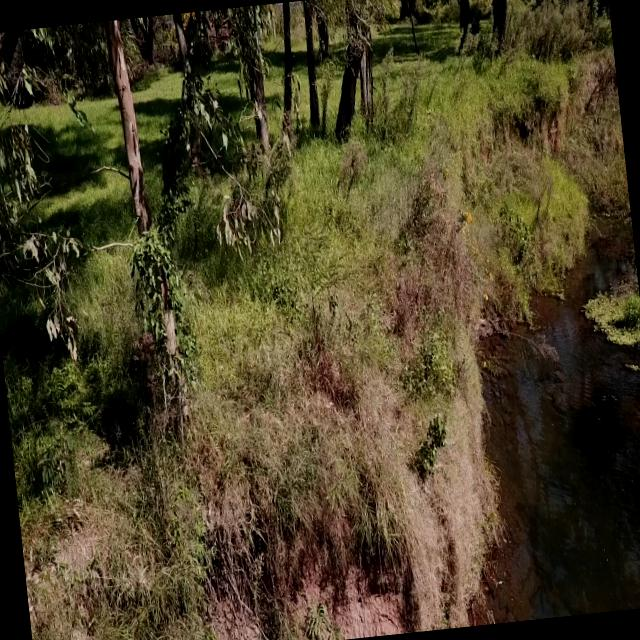Mysore-Thorn-Weed: (22, 359, 106, 507)
